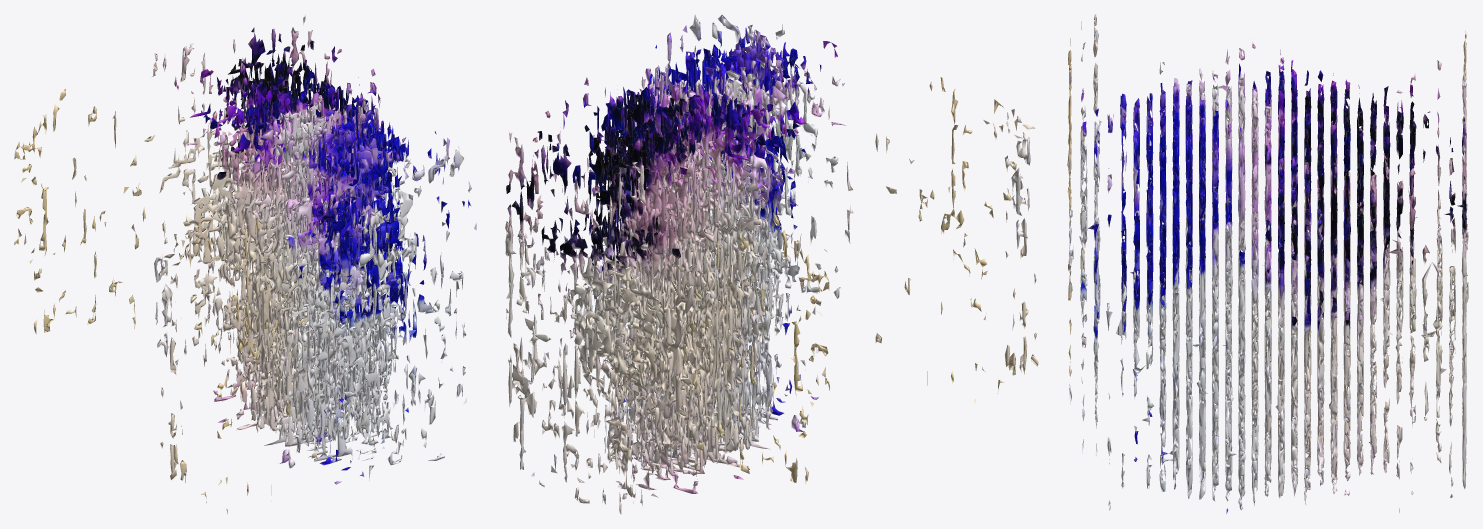
Rendered from nexus_portal.glb.
The picture shows the model from 3 angles, left to right: view 1: azimuth 30°, elevation 25°; view 2: azimuth 150°, elevation 25°; view 3: azimuth 270°, elevation 25°; orthographic projection. The views are drawn at different scales.
Visible parts, largest first — view 1: world; view 2: world; view 3: world.
Boxes of the visible parts, x1=… form: world: x1=14, y1=14, x2=476, y2=514; world: x1=505, y1=14, x2=1038, y2=514; world: x1=1067, y1=14, x2=1468, y2=513.
Size of the model in its own units: 0.9871 by 0.9983 by 0.9532.
Materials: 1 (1 with a texture image).
